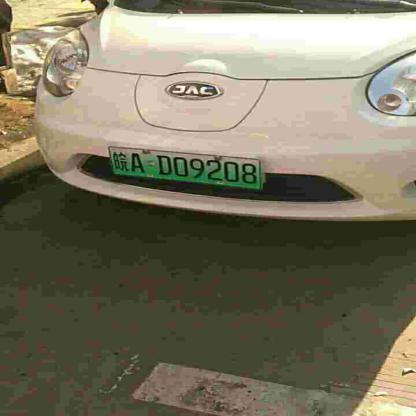lp: (109, 146, 261, 190)
